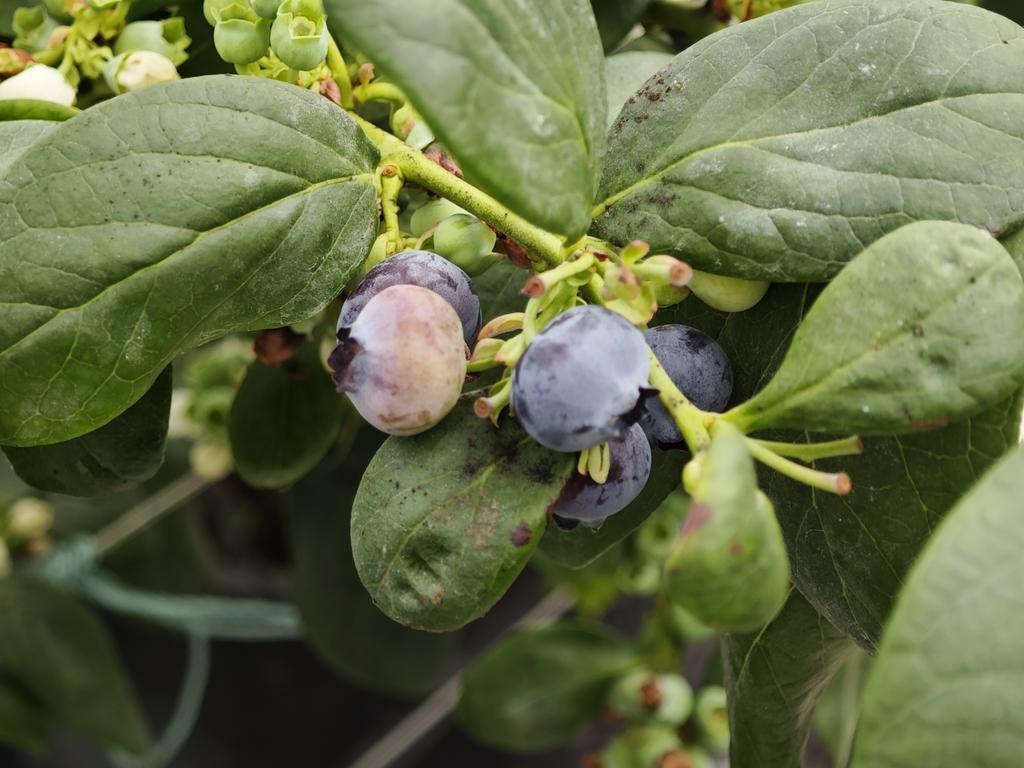RipeBlueBerry: (513, 305, 652, 455), (546, 427, 653, 529), (654, 321, 736, 444)
Semi-RipeBlueBerry: (338, 286, 467, 434)
